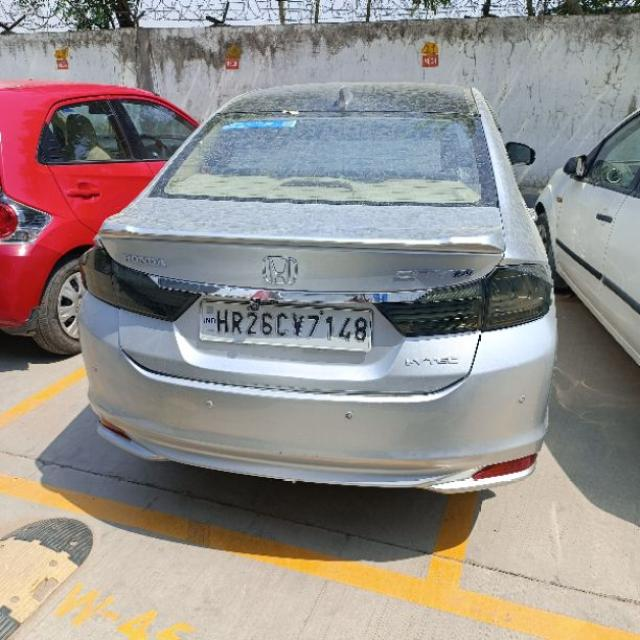license_plate: (197, 296, 373, 351)
